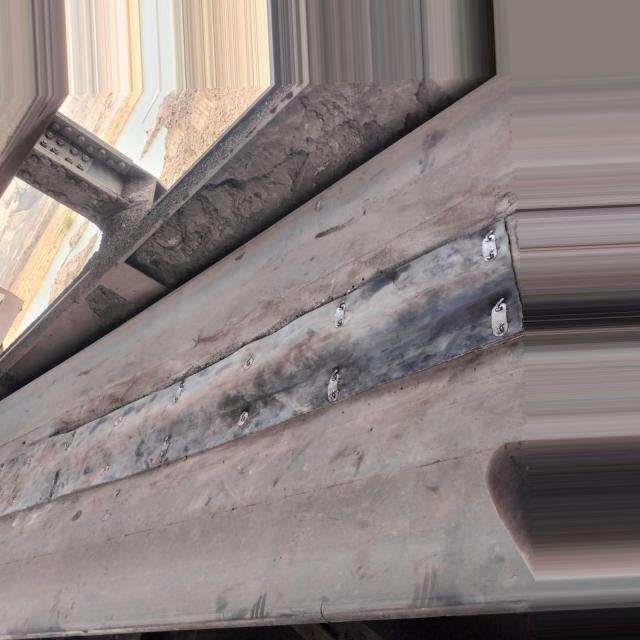patch work: (0, 216, 535, 523)
